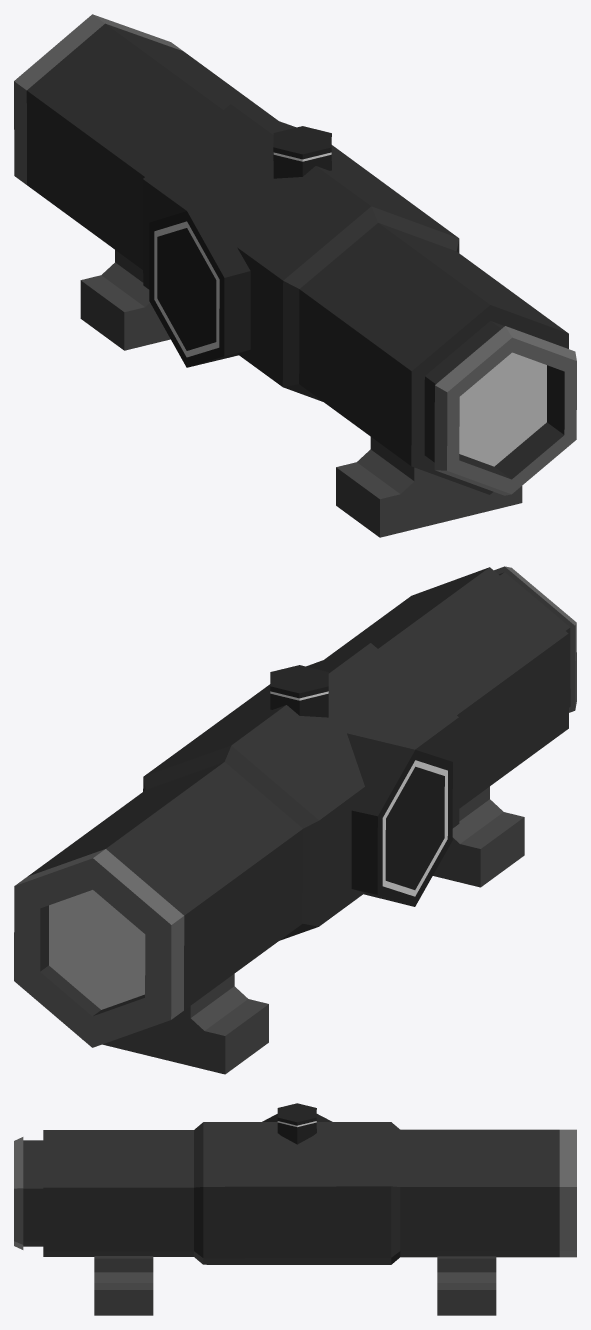
File: Scope_a.fbx
3 views of the same model, one above another, from view 1: azimuth 30°, elevation 25°; view 2: azimuth 150°, elevation 25°; view 3: azimuth 270°, elevation 25° (orthographic). The views are drawn at different scales.
Visible parts, largest first — view 1: scope_a, glass; view 2: scope_a, glass; view 3: scope_a.
Part boxes in pixels (left/top/right/bottom): scope_a: left=14, top=14, right=576, bottom=537; glass: left=459, top=352, right=546, bottom=466; scope_a: left=14, top=566, right=576, bottom=1074; glass: left=49, top=890, right=145, bottom=1009; scope_a: left=14, top=1103, right=576, bottom=1315.
Size of the model in its own units: 2.54 by 3.23 by 9.12.
